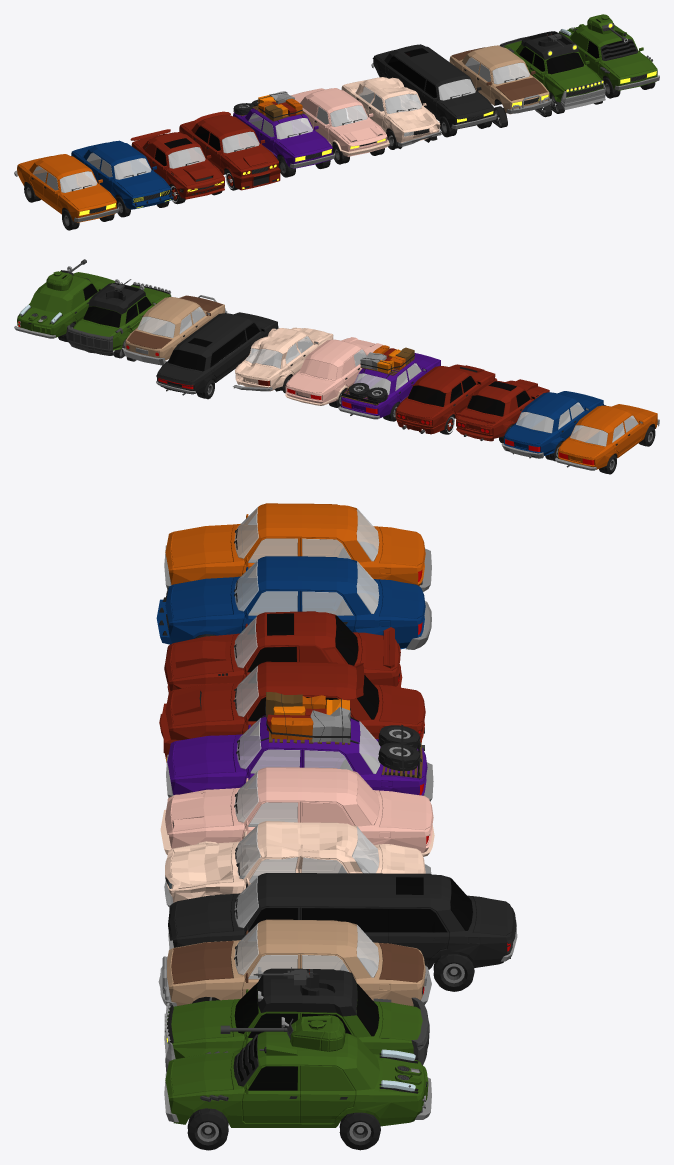
Rendered from low_poly_sedans_11_cars_pack.glb.
3 renders of one model, top to bottom at view 1: azimuth 30°, elevation 25°; view 2: azimuth 150°, elevation 25°; view 3: azimuth 270°, elevation 25°, orthographic. The views are drawn at different scales.
Parts seen in each view (by area): view 1: Car.007, Car.001, Car.004, Car.011, Car.008, Car.010, Car.013, Car.002, Car.005, Car.003, Car.006; view 2: Car.007, Car.001, Car.011, Car.004, Car.008, Car.002, Car.010, Car.013, Car.005, Car.006, Car.003; view 3: Car.013, Car.007, Car.004, Car.002, Car.005, Car.010, Car.001, Car.011, Car.006, Car.008, Car.003.
Part boxes in pixels (box(x1,y1,x2,y2)): Car.007: box(371, 44, 496, 137); Car.001: box(14, 154, 118, 230); Car.004: box(233, 91, 334, 177); Car.011: box(499, 31, 605, 113); Car.008: box(179, 111, 280, 190); Car.010: box(449, 45, 551, 127); Car.013: box(559, 14, 659, 98); Car.002: box(71, 140, 173, 217); Car.005: box(291, 88, 389, 164); Car.003: box(130, 129, 224, 204); Car.006: box(341, 77, 441, 149); Car.007: box(156, 312, 279, 399); Car.001: box(555, 404, 659, 474); Car.011: box(66, 279, 171, 358); Car.004: box(338, 345, 440, 421); Car.008: box(395, 364, 496, 434); Car.002: box(501, 391, 605, 461); Car.010: box(123, 295, 227, 365); Car.013: box(14, 259, 114, 342); Car.005: box(285, 337, 382, 407); Car.006: box(233, 327, 333, 393); Car.003: box(455, 379, 549, 443); Car.013: box(164, 1015, 431, 1150); Car.007: box(168, 873, 517, 991); Car.004: box(166, 692, 433, 801); Car.002: box(156, 556, 431, 649); Car.005: box(160, 767, 434, 856); Car.010: box(158, 919, 431, 1006); Car.001: box(164, 503, 431, 591); Car.011: box(164, 967, 429, 1072); Car.006: box(164, 821, 431, 910); Car.008: box(159, 661, 425, 762); Car.003: box(164, 611, 402, 692).
Size of the model in its own units: 21.79 by 2 by 5.78.
Materials: 5 (1 with a texture image).
